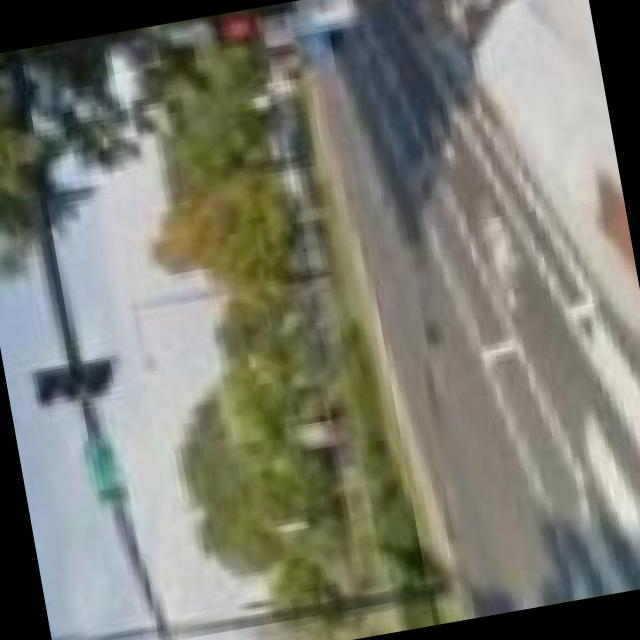zebra: (459, 317, 640, 612)
